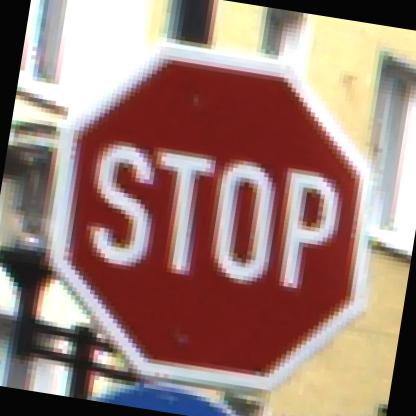stop: (0, 29, 415, 413)
